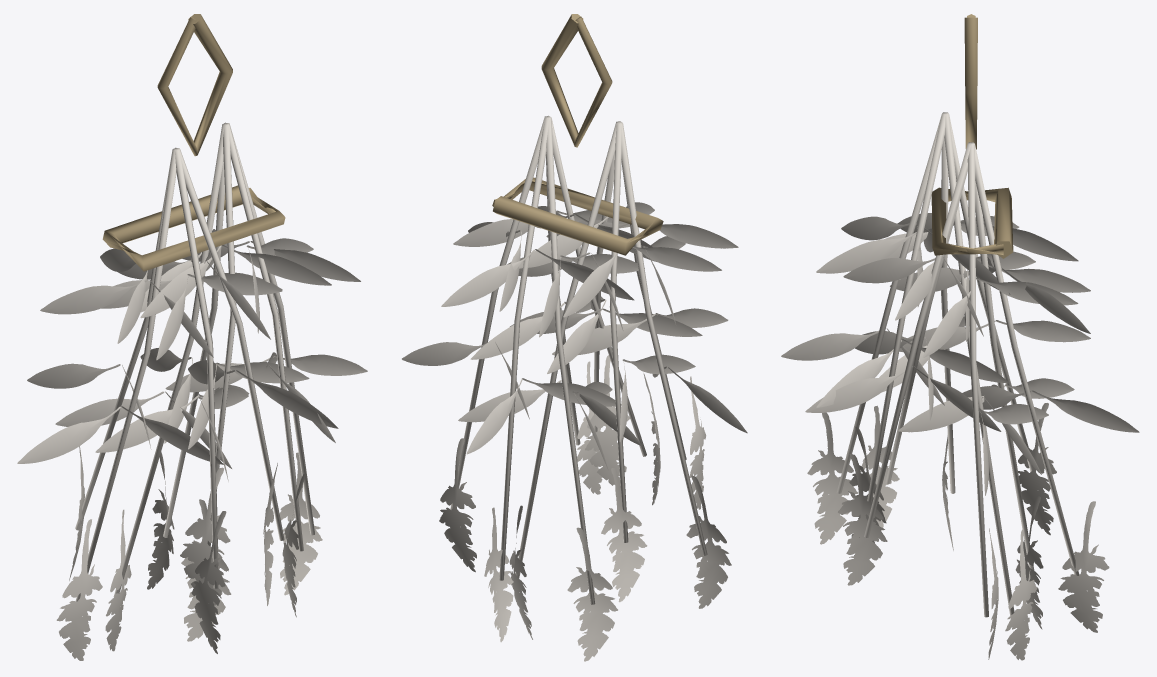
File: CM_BotanicalPlanterKit01_Hanging_Lavender.fbx
The picture shows the model from 3 angles, left to right: view 1: azimuth 30°, elevation 25°; view 2: azimuth 150°, elevation 25°; view 3: azimuth 270°, elevation 25°; orthographic projection. The views are drawn at different scales.
Visible parts, largest first — view 1: CM_BotanicalPlanterKit01_Hanging_Lavender_FoliageDry, CM_BotanicalPlanterKit01_Hanging_Lavender_Twine; view 2: CM_BotanicalPlanterKit01_Hanging_Lavender_FoliageDry, CM_BotanicalPlanterKit01_Hanging_Lavender_Twine; view 3: CM_BotanicalPlanterKit01_Hanging_Lavender_FoliageDry, CM_BotanicalPlanterKit01_Hanging_Lavender_Twine.
Boxes of the visible parts, left/top/right/bottom form: CM_BotanicalPlanterKit01_Hanging_Lavender_FoliageDry: left=17, top=122, right=367, bottom=660; CM_BotanicalPlanterKit01_Hanging_Lavender_Twine: left=102, top=14, right=285, bottom=271; CM_BotanicalPlanterKit01_Hanging_Lavender_FoliageDry: left=402, top=115, right=747, bottom=661; CM_BotanicalPlanterKit01_Hanging_Lavender_Twine: left=492, top=14, right=663, bottom=255; CM_BotanicalPlanterKit01_Hanging_Lavender_FoliageDry: left=781, top=112, right=1139, bottom=660; CM_BotanicalPlanterKit01_Hanging_Lavender_Twine: left=931, top=14, right=1013, bottom=258.
Size of the model in its own units: 0.3196 by 0.5455 by 0.283.
